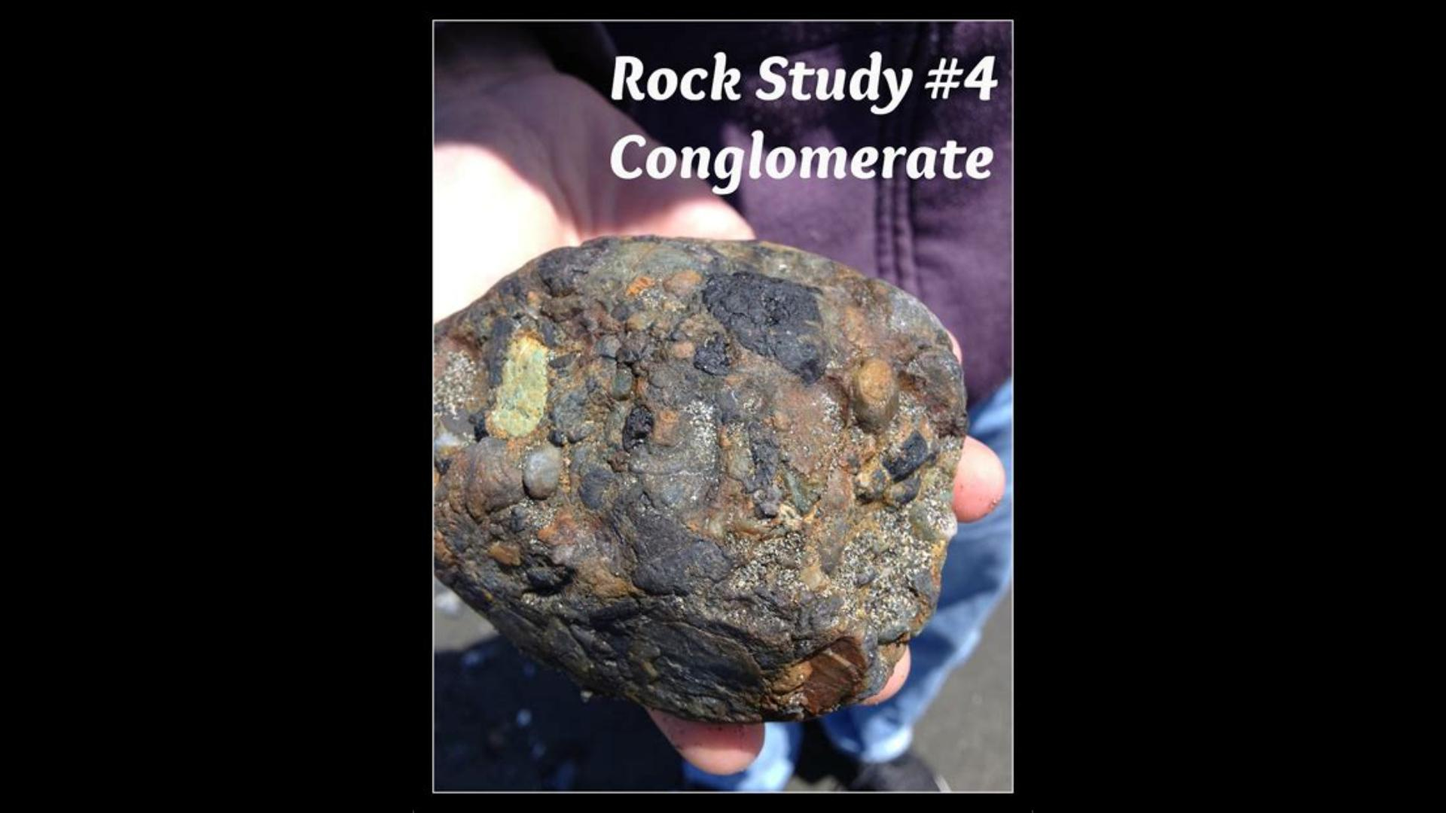rock: (439, 238, 965, 723)
